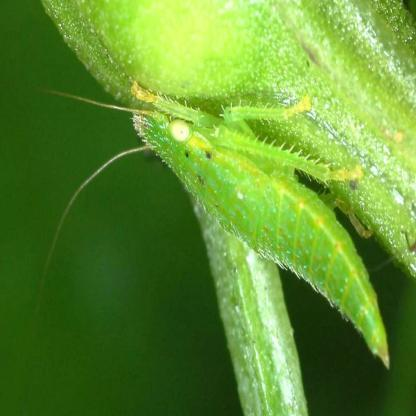green-leafhopper: (53, 82, 392, 364)
